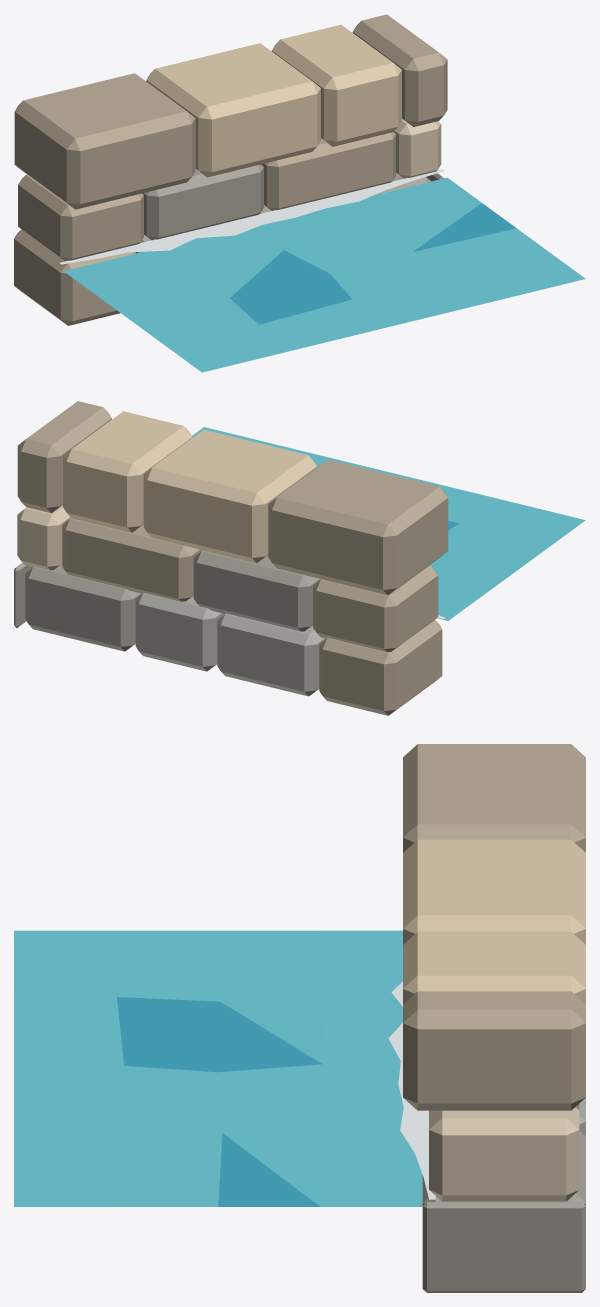
File: water_edge_2m.glb
The picture shows the model from 3 angles, top to bottom: view 1: azimuth 30°, elevation 25°; view 2: azimuth 150°, elevation 25°; view 3: azimuth 270°, elevation 25°; orthographic projection. The views are drawn at different scales.
Parts seen in each view (by area): view 1: water_edge_2m, part_foam; view 2: water_edge_2m; view 3: water_edge_2m, part_foam.
Part boxes in pixels (box(x1,y1,x2,y2)): water_edge_2m: box(14, 14, 585, 372); part_foam: box(59, 169, 444, 264); water_edge_2m: box(14, 401, 585, 715); water_edge_2m: box(14, 744, 585, 1292); part_foam: box(388, 981, 435, 1199).
Size of the model in its own units: 2 by 0.9544 by 1.75.
